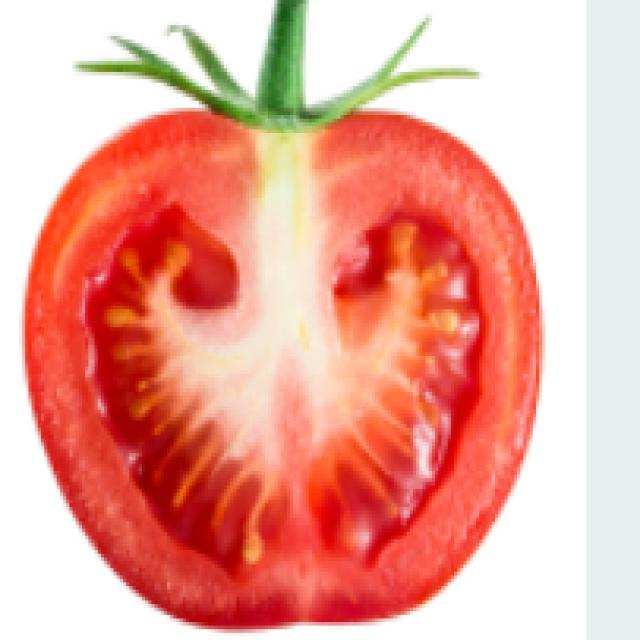Tomato: (16, 14, 570, 636)
